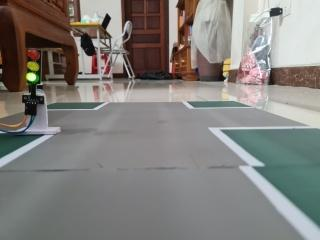green: (22, 43, 48, 106)
